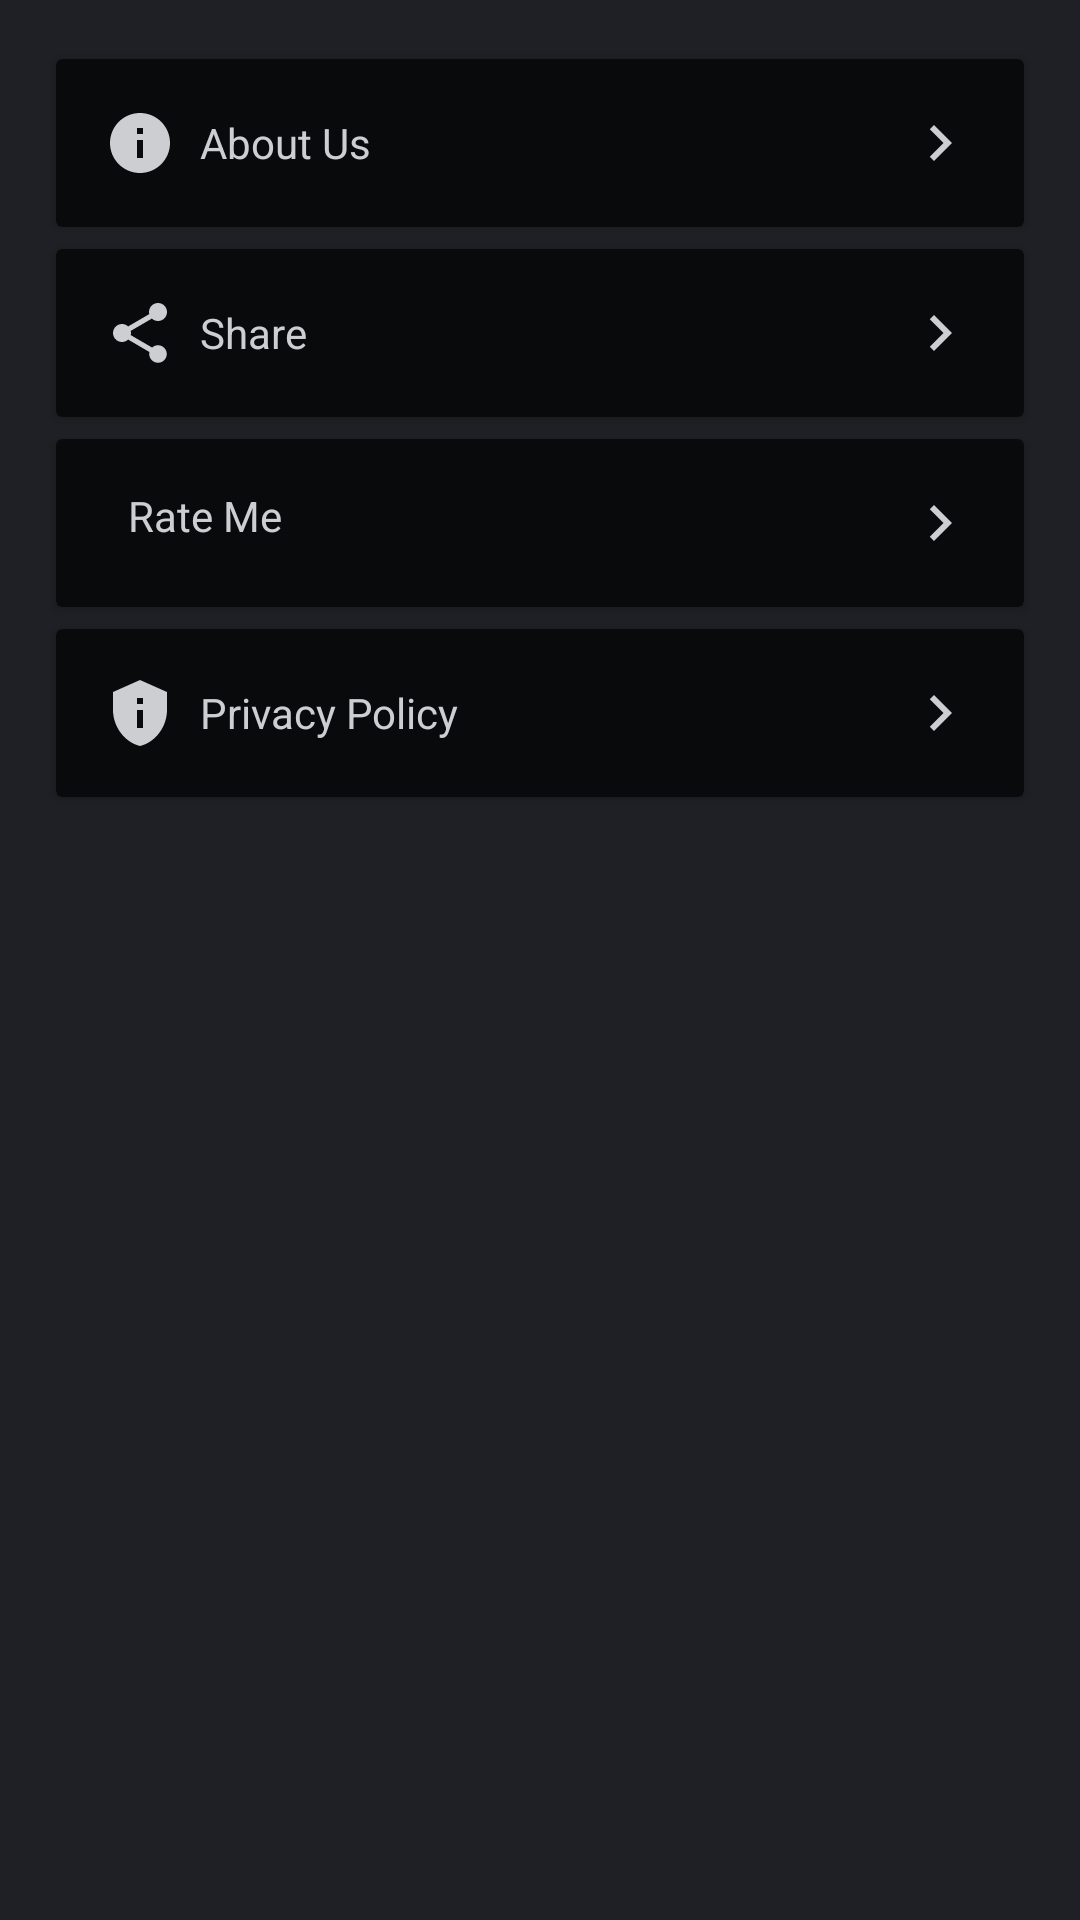

Named icons in this screenshot (1080 x 1920) and their centers, point (x, y):
chevron right: point (941, 143), point (941, 333), point (941, 523), point (941, 713)
info: point (140, 143)
